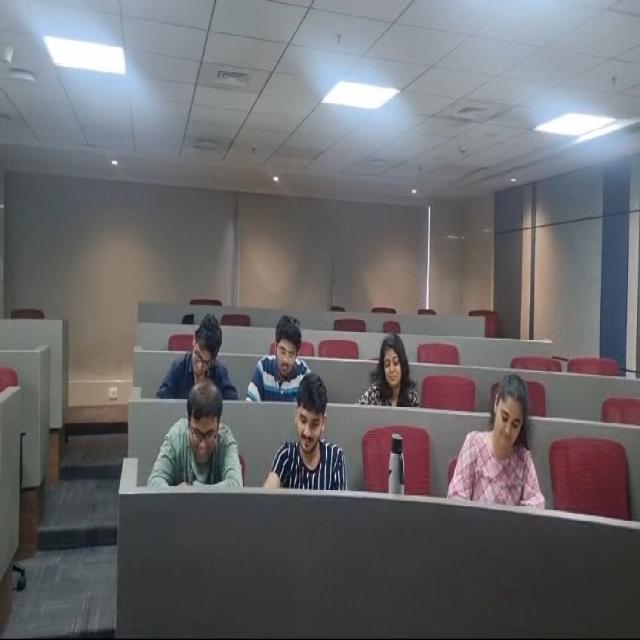cheating: (170, 379, 252, 496), (276, 379, 349, 492)
non-cheating: (463, 360, 551, 509), (166, 304, 241, 400), (353, 324, 429, 411), (255, 307, 313, 394)
